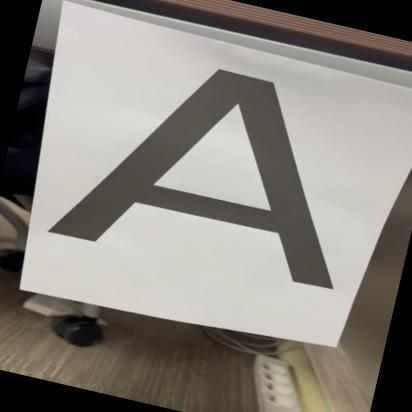seat: (39, 24, 394, 319)
